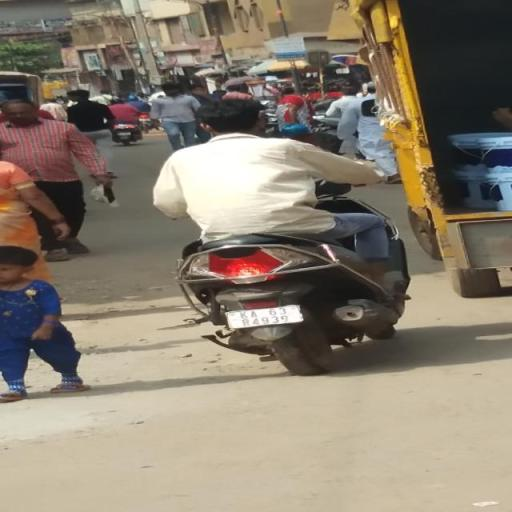bike: (149, 93, 413, 381)
numberplate: (224, 302, 299, 332)
withouthelmet: (200, 99, 265, 133)
